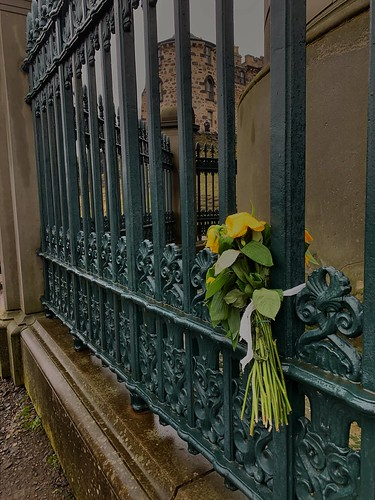building: (143, 19, 259, 128)
flowers: (202, 209, 293, 433)
